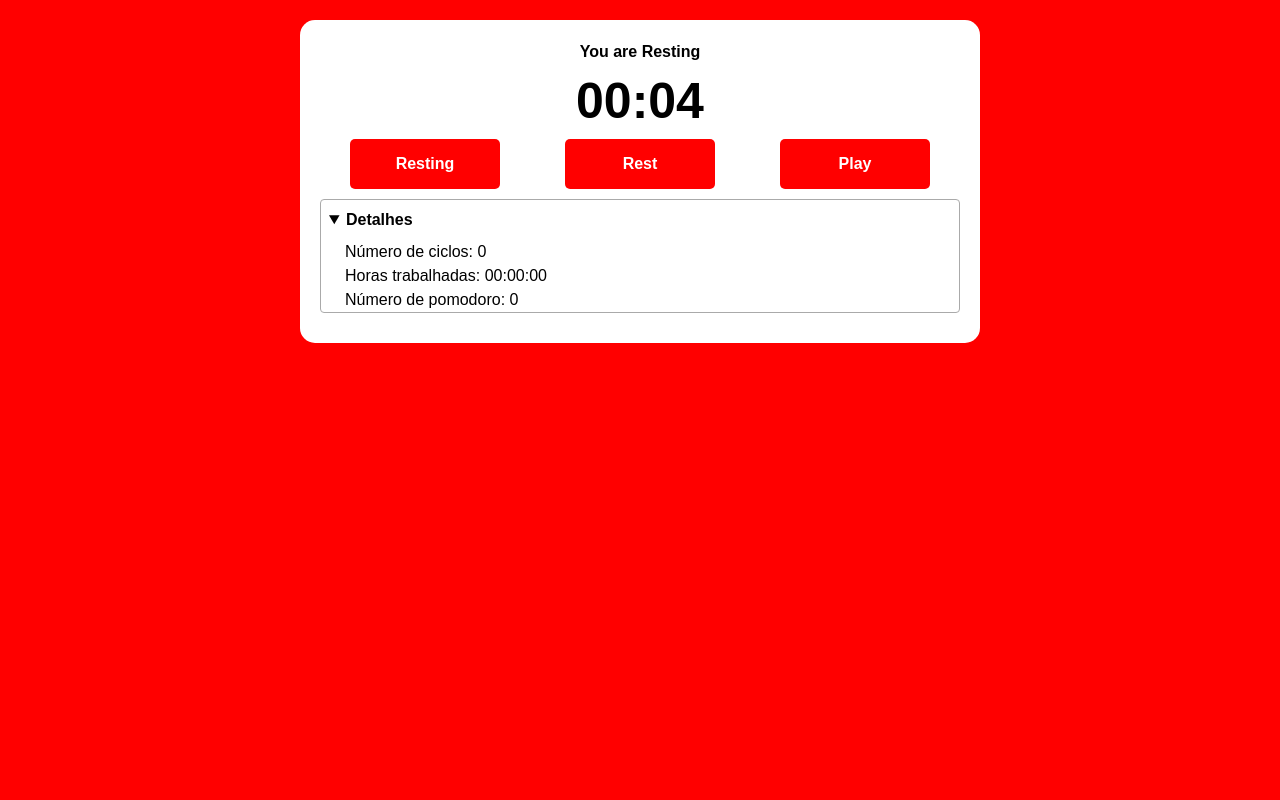
it: Test all application <App /> › Should be count timer when click in button Resting and change text to worgink
Click the button "Resting".
click(425, 164)  # box [350,139,500,189]
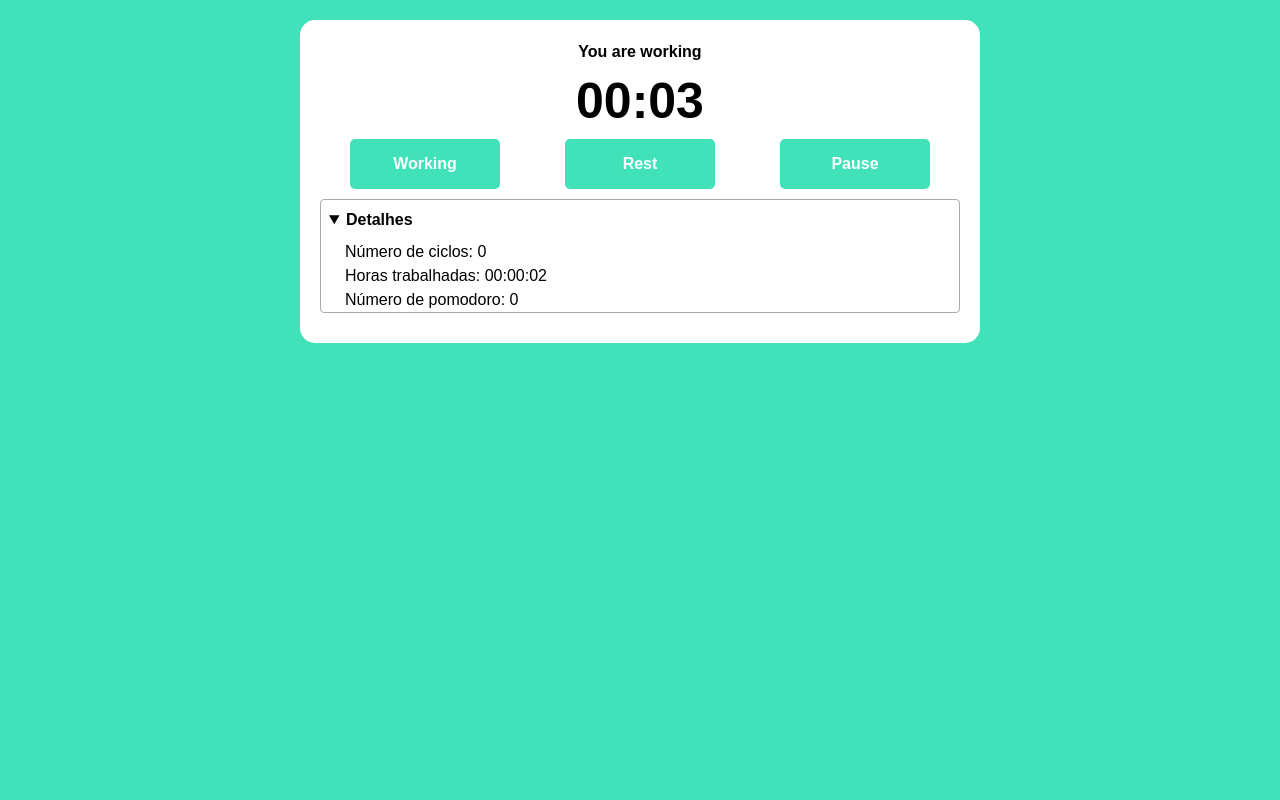
Now the heading "You are working" is shown, box [578,43,702,60]
Now the text "Horas trabalhadas: 00:00:02" is shown, box [345,267,547,284]
